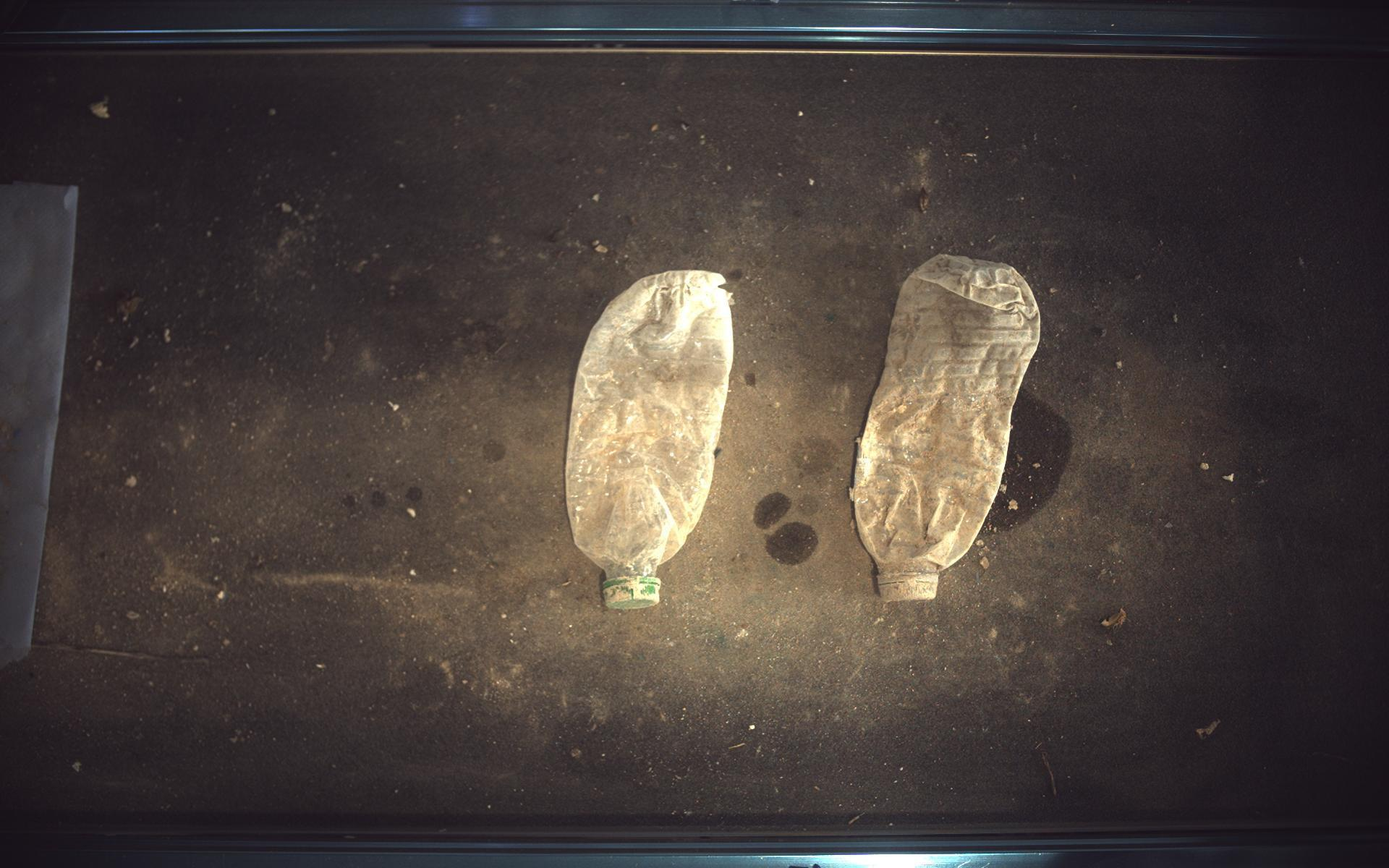general_w: (854, 254, 1042, 602), (566, 270, 734, 610)
